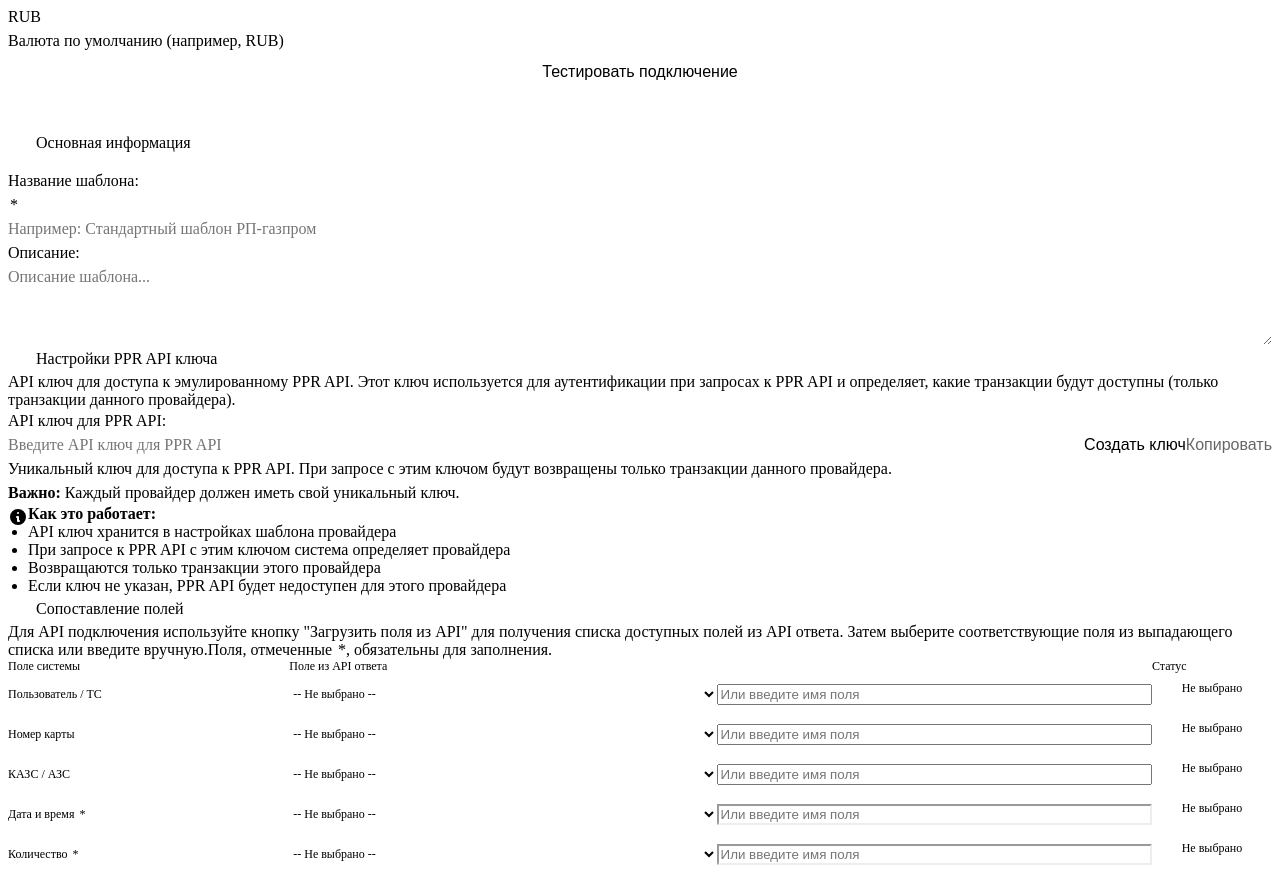
Test: TemplateEditor: ключ PPR API › созданный ключ попадает в поле и отпирает копирование
(page scrolled)
Click the button titled "Сгенерировать новый случайный ключ".
click(1135, 445)  # box x1=1084 y1=433 x2=1186 y2=457
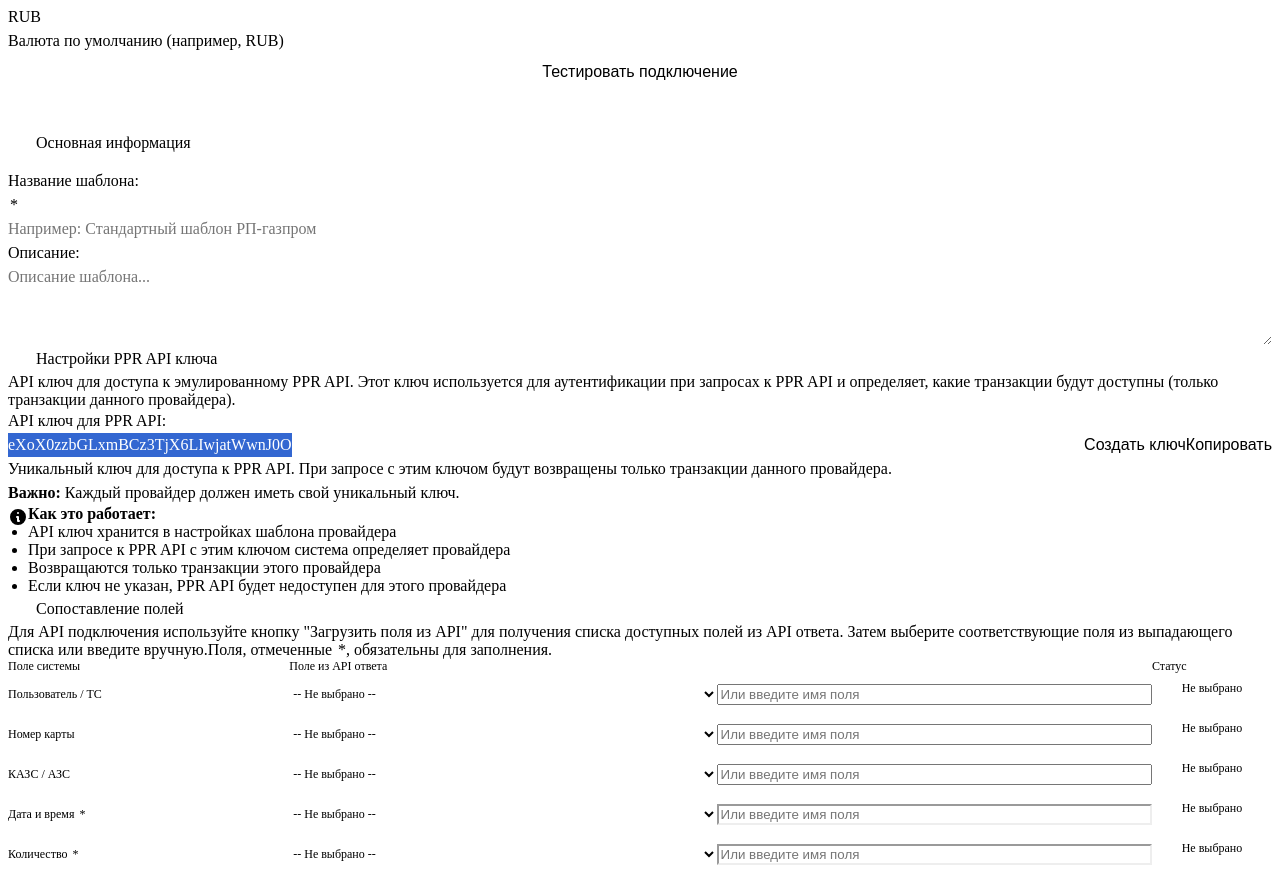
Expected: the button titled "Скопировать ключ в буфер обмена" is enabled, x1=1186 y1=433 x2=1272 y2=457
